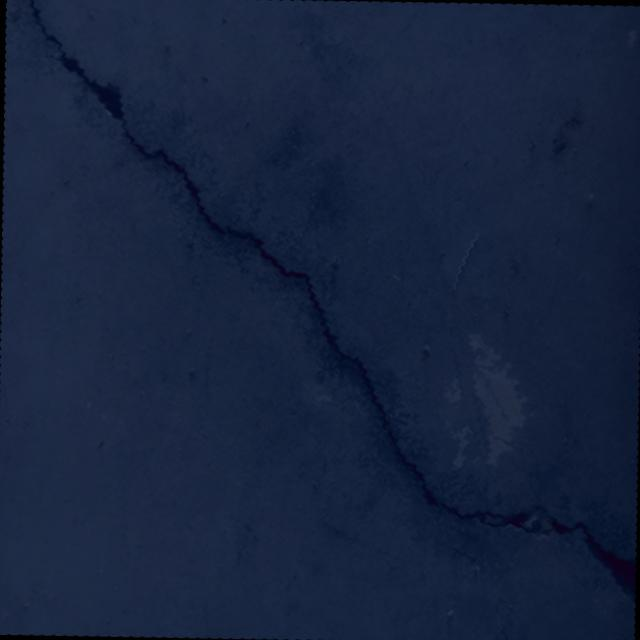crack: (15, 0, 640, 604)
